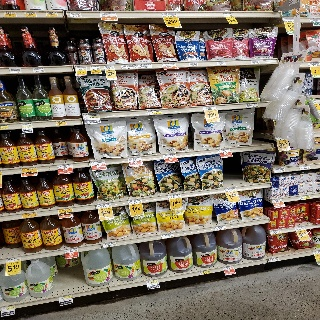All PRICE TAGS: (6, 257, 22, 263), (22, 213, 37, 218), (103, 242, 117, 247), (128, 199, 142, 204), (64, 248, 78, 253), (147, 109, 161, 114), (161, 233, 174, 238), (128, 156, 141, 161), (69, 12, 82, 17), (101, 13, 117, 17), (146, 279, 158, 284), (214, 225, 226, 230), (246, 103, 258, 108), (58, 209, 73, 213), (57, 165, 72, 169), (22, 168, 37, 172), (9, 68, 21, 73), (46, 12, 58, 17), (25, 12, 37, 17), (4, 12, 16, 17), (162, 13, 177, 17), (97, 203, 111, 207), (91, 161, 105, 165), (137, 64, 151, 68), (162, 63, 176, 67), (85, 114, 99, 118), (203, 106, 217, 110), (274, 168, 285, 173), (21, 123, 32, 128), (33, 68, 44, 73), (163, 153, 176, 157), (123, 65, 136, 69), (104, 65, 114, 70), (168, 194, 180, 198), (218, 148, 230, 152), (224, 188, 236, 192), (308, 63, 320, 67), (224, 12, 233, 17), (269, 258, 280, 262), (271, 230, 282, 234), (272, 199, 283, 203), (283, 18, 294, 22), (56, 121, 67, 125), (75, 66, 86, 70), (59, 296, 73, 299), (224, 266, 234, 270), (300, 196, 310, 200), (310, 18, 320, 22), (90, 66, 100, 70), (199, 271, 211, 274), (299, 166, 311, 169), (274, 136, 283, 140), (189, 62, 198, 66), (217, 61, 226, 65), (295, 227, 306, 230), (251, 60, 259, 64), (1, 125, 7, 130), (313, 250, 320, 254)
